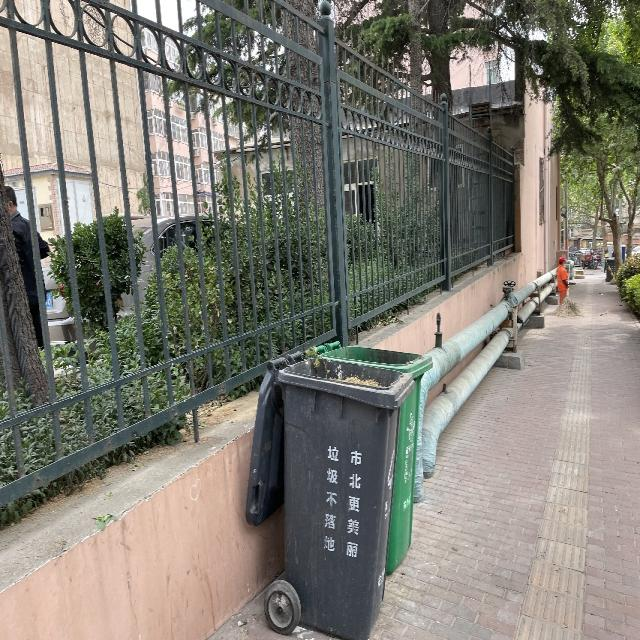garbage_bin: (278, 355, 416, 639), (317, 344, 433, 575)
